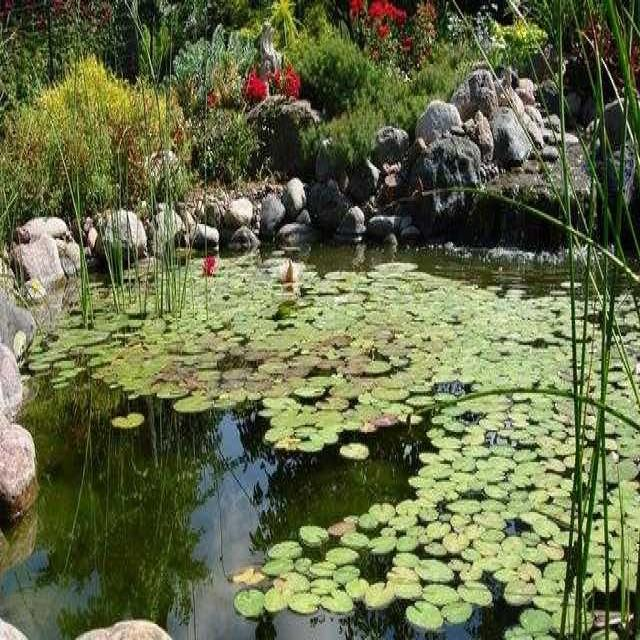Ponds: (1, 66, 640, 639)
